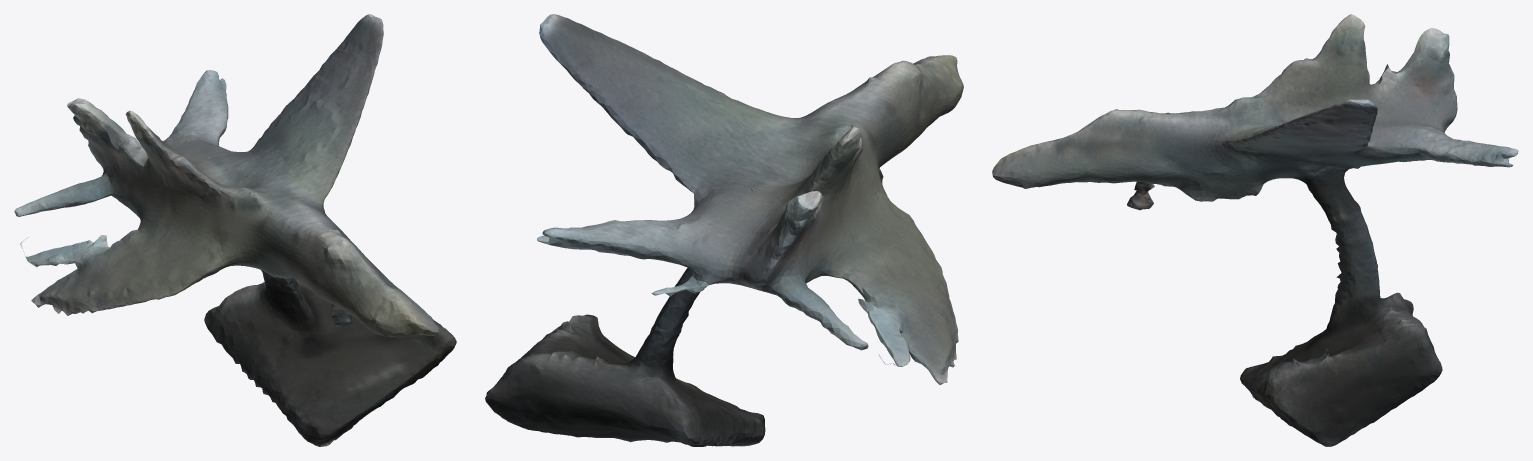
The model's file is IMG_SEG_19.glb.
3 views of the same model, side by side, from view 1: azimuth 30°, elevation 25°; view 2: azimuth 150°, elevation 25°; view 3: azimuth 270°, elevation 25° (orthographic). The views are drawn at different scales.
Bounding box in the file's own units: 0.866 × 0.7973 × 1.1.
1 material, 1 textured.
